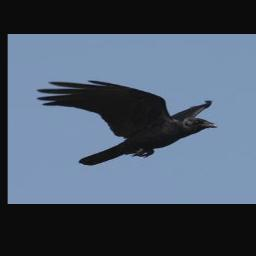Crow: (35, 78, 220, 166)
